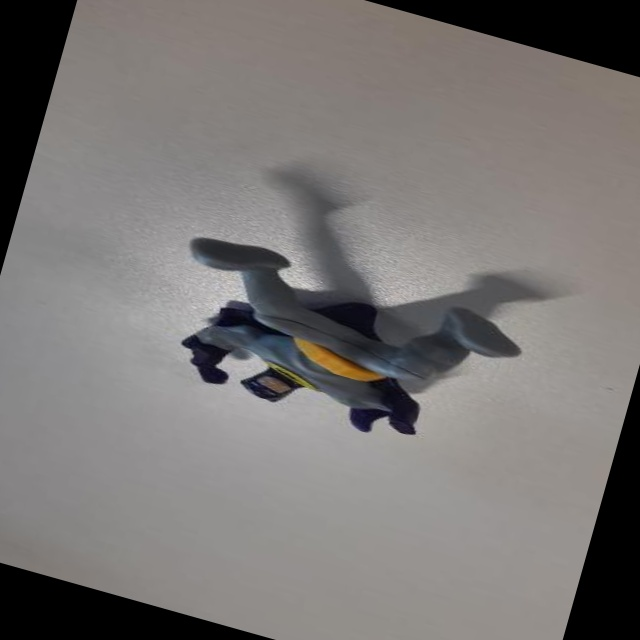Batman: (142, 217, 542, 483)
